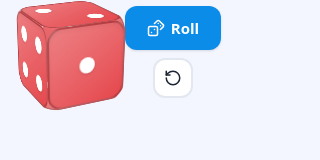
Test: animated randomizers land on the reported result › dice: final transform shows the announced face
The width and height of the screenshot is (320, 160).
Later steps or results of the test are not shown.
Click the button "Roll". click: (173, 28)
box: [125,6,221,50]
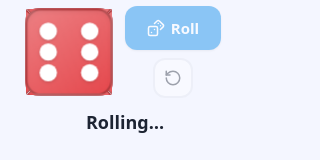
Result: the button "Roll" is disabled at [125,6,221,50]
